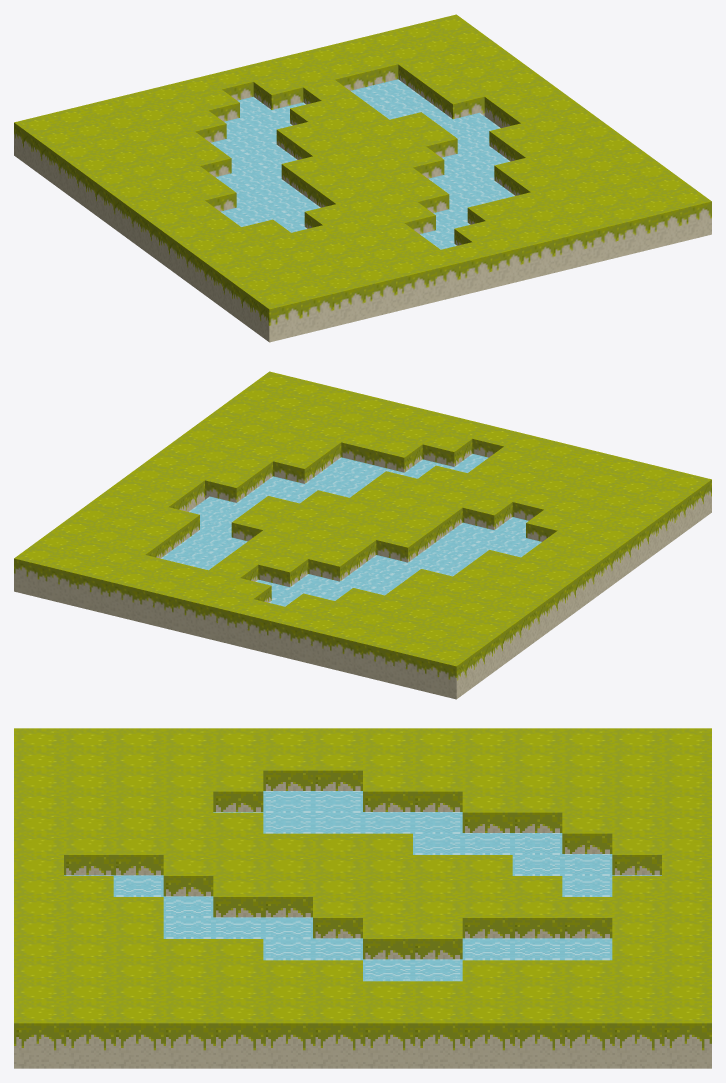
The model's file is st1_mhe5.fbx.
3 renders of one model, top to bottom at view 1: azimuth 30°, elevation 25°; view 2: azimuth 150°, elevation 25°; view 3: azimuth 270°, elevation 25°, orthographic. The views are drawn at different scales.
Visible parts, largest first — view 1: Ground_Grass_D__2__1__42__1; view 2: Ground_Grass_D__2__1__42__1; view 3: Ground_Grass_D__2__1__42__1.
Boxes of the visible parts, box(x1,y1,x2,y2) form: Ground_Grass_D__2__1__42__1: box(14, 14, 711, 342); Ground_Grass_D__2__1__42__1: box(14, 371, 711, 699); Ground_Grass_D__2__1__42__1: box(14, 728, 711, 1068).
Bounding box in the file's own units: 8400 × 600 × 8400.
2 materials, 2 textured.
